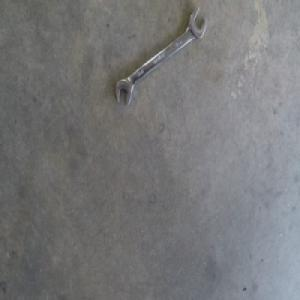Wrench: (115, 11, 207, 107)
